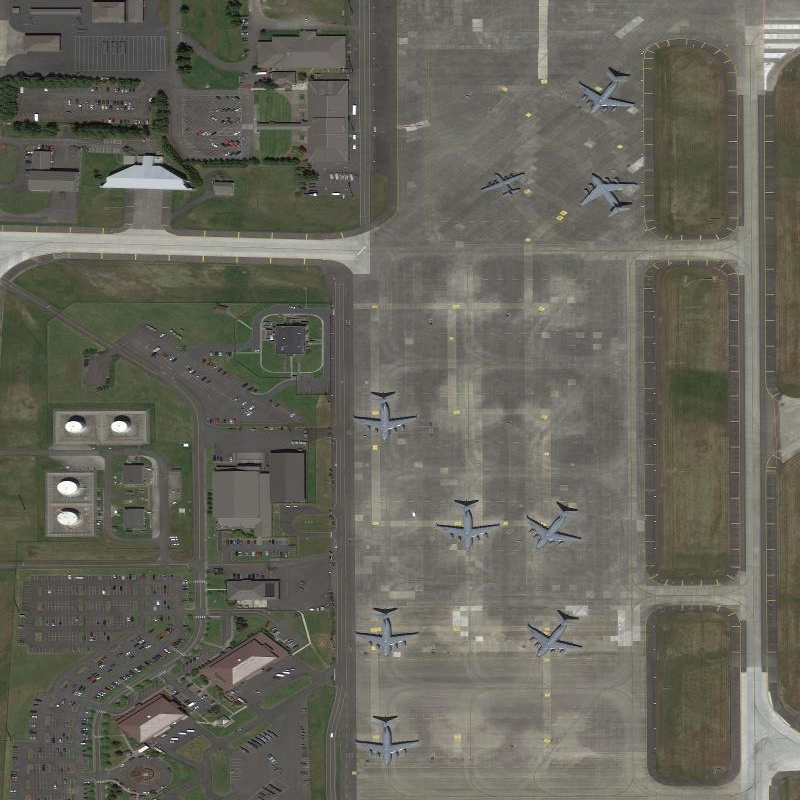A2: (478, 166, 529, 199)
A3: (433, 496, 502, 553), (352, 712, 420, 766), (353, 606, 419, 661), (351, 389, 418, 442), (523, 607, 586, 660), (576, 66, 637, 120), (578, 169, 642, 220), (523, 501, 582, 552)
